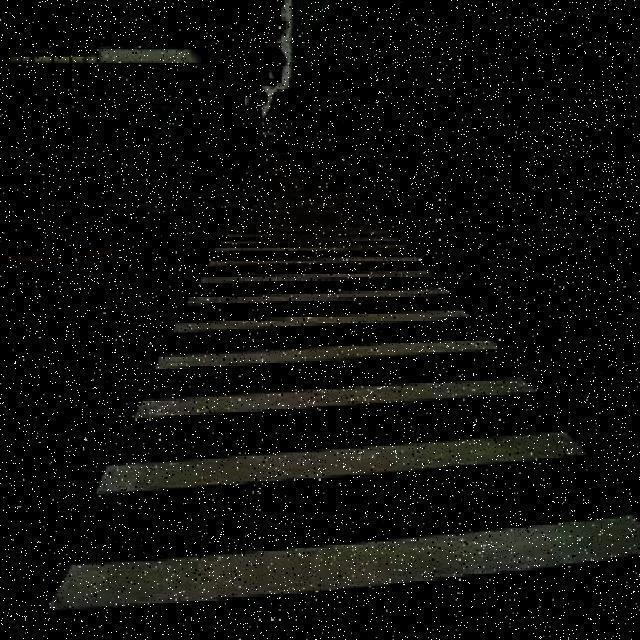Pedestrian crosswalk: (50, 211, 639, 614)
